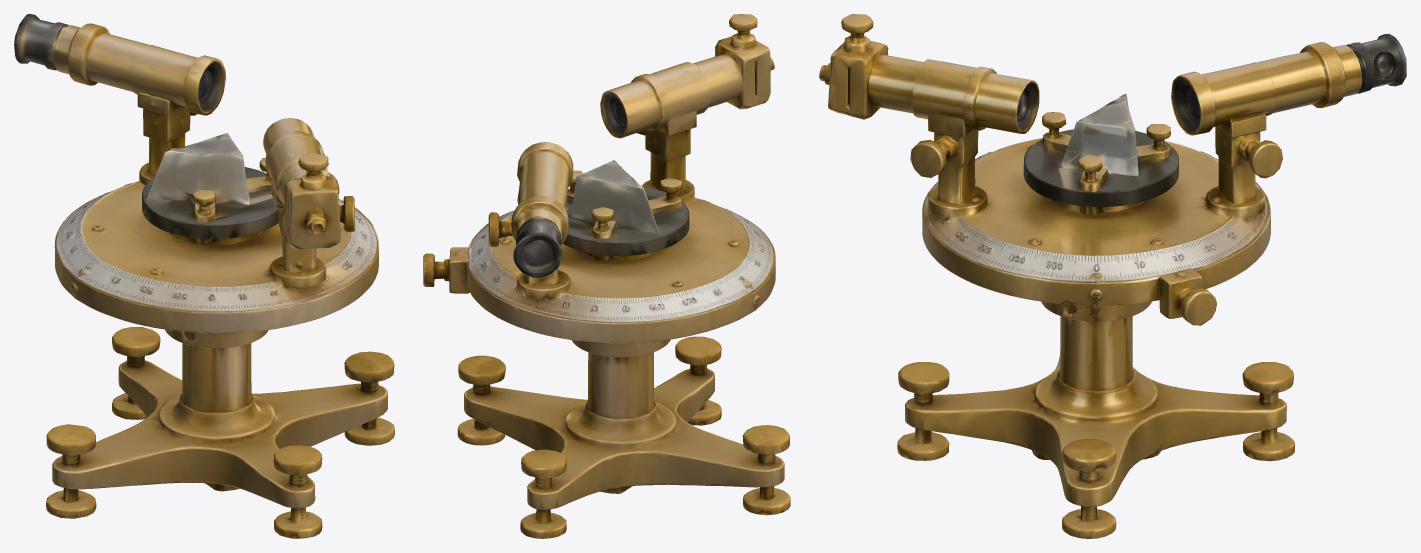
The model's file is spectrometer.glb.
The picture shows the model from 3 angles, left to right: view 1: azimuth 30°, elevation 25°; view 2: azimuth 150°, elevation 25°; view 3: azimuth 270°, elevation 25°; orthographic projection. The views are drawn at different scales.
Parts seen in each view (by area): view 1: spectrometer; view 2: spectrometer; view 3: spectrometer.
Part boxes in pixels (x1,y1,x2,y2): spectrometer: (14,14,394,538); spectrometer: (423,14,790,538); spectrometer: (819,14,1406,538).
Bounding box in the file's own units: 0.2864 × 0.3178 × 0.4.
1 material, 1 textured.
